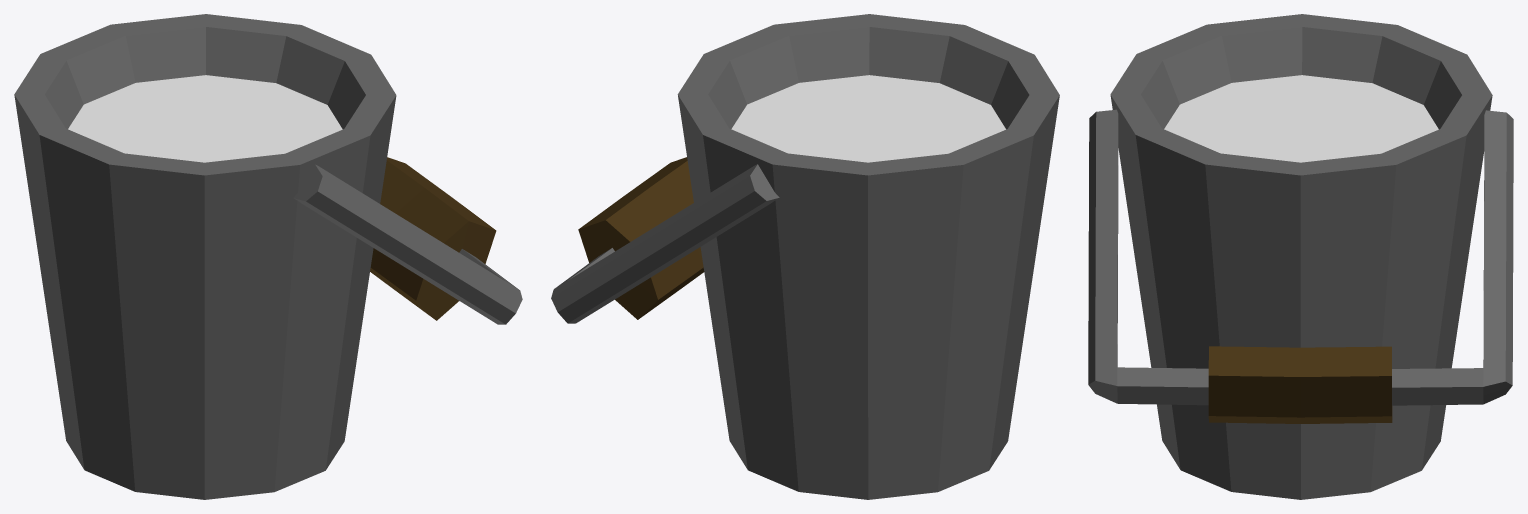
Rendered from milk_bucket.fbx.
3 views of the same model, side by side, from view 1: azimuth 30°, elevation 25°; view 2: azimuth 150°, elevation 25°; view 3: azimuth 270°, elevation 25° (orthographic).
Parts seen in each view (by area): view 1: milk_bucket; view 2: milk_bucket; view 3: milk_bucket.
Boxes of the visible parts, left/top/right/bottom form: milk_bucket: left=14, top=14, right=522, bottom=499; milk_bucket: left=551, top=14, right=1059, bottom=499; milk_bucket: left=1088, top=14, right=1513, bottom=499.
Size of the model in its own units: 70.98 by 57.08 by 63.55.
